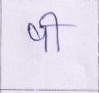i_matra: (45, 11, 66, 52)
